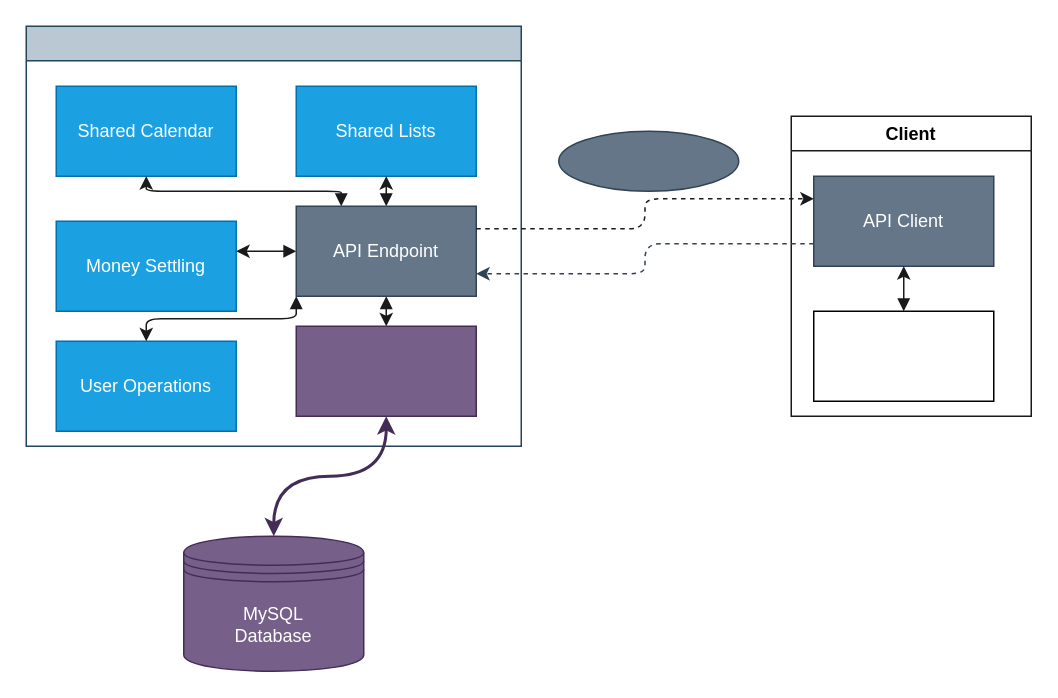
Some shapes in this 1058 by 698 pixel diagram are drawn without their labels. The box of each missing label's shape, as (x1, y1, x2, y2) in pixels:
Frontend: (812, 310, 994, 401)
HTTP Requests: (557, 130, 739, 191)
MySQL Connection: (295, 325, 476, 416)
Server: (25, 25, 521, 446)
